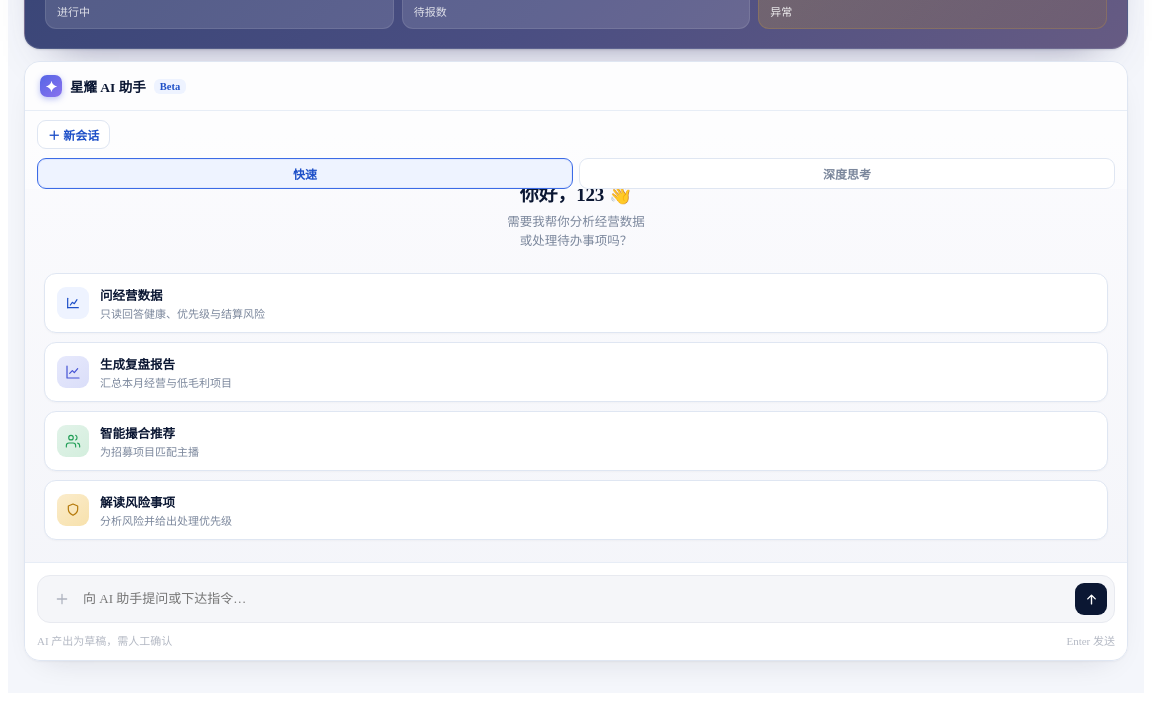
it: OverviewBoard AI panel › renders compact sanitized activity, todo, and subagent rows that update in place
(page scrolled)
In the field with placeholder "向 AI 助手提问或下达指令…": coordinates (574, 599) top-left (81, 590), bottom-right (1067, 608), type "展示进度"
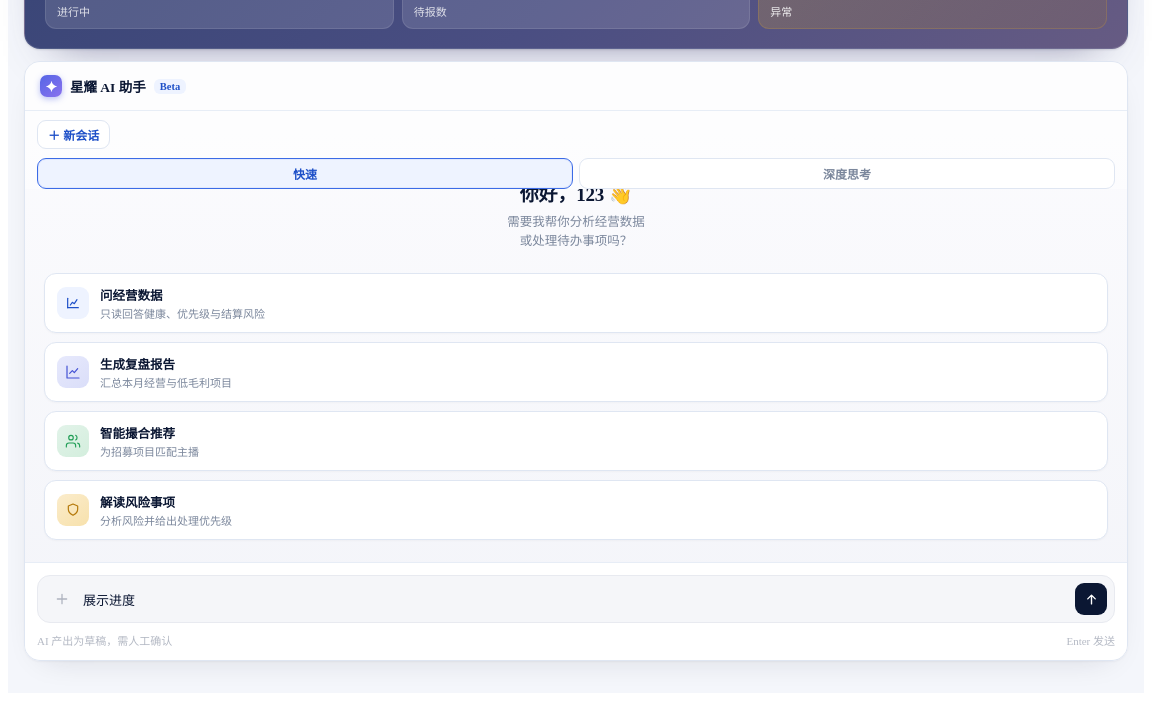
Press Enter in the field, box top-left (81, 590), bottom-right (1067, 608)
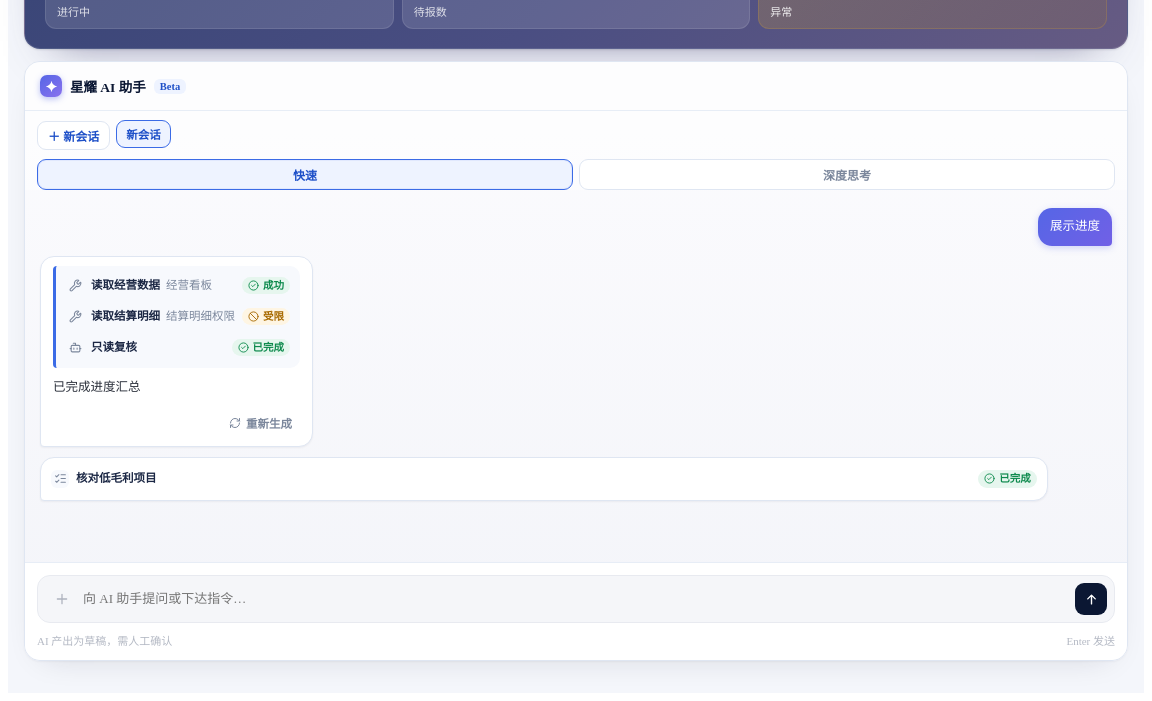
Now the text "读取经营数据" is shown, box top-left (91, 278), bottom-right (160, 293)
Now the text "经营看板" is shown, box top-left (166, 278), bottom-right (212, 293)
Now the text "成功" is shown, box top-left (242, 277), bottom-right (290, 294)
